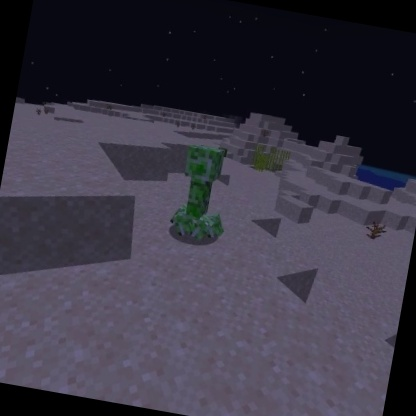creeper: (162, 138, 241, 251)
